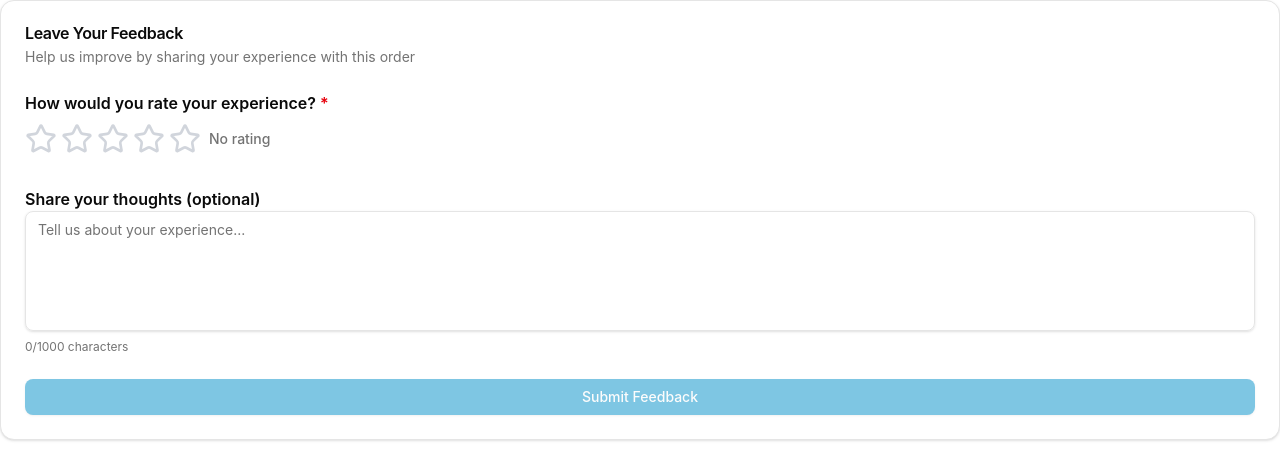
Test: FeedbackForm › Comment Input › updates comment when text is entered
Type "Great food and service!" into the text box with placeholder "Tell us about your experience..." at [640, 271], box 25,211 -> 1255,331
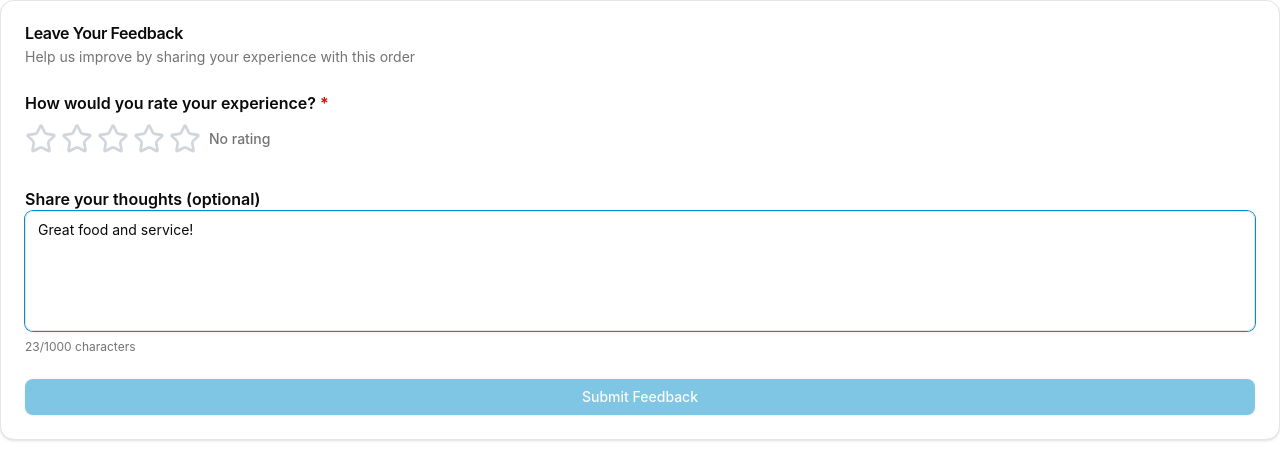
Now the text "23/1000 characters" is shown, box 25,339 -> 136,355
